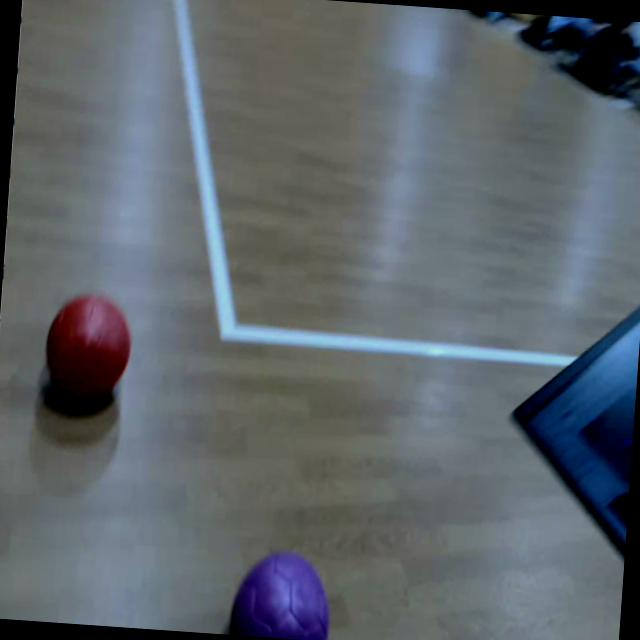purple_ball: (229, 545, 336, 640)
red_ball: (42, 292, 136, 406)
